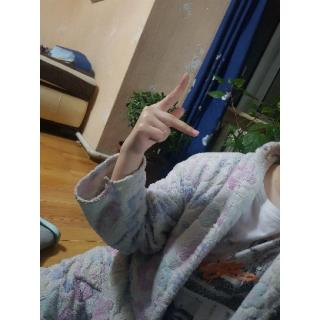DHAA: (120, 70, 205, 160)
